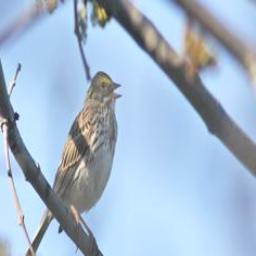Sparrow: (23, 67, 123, 256)
